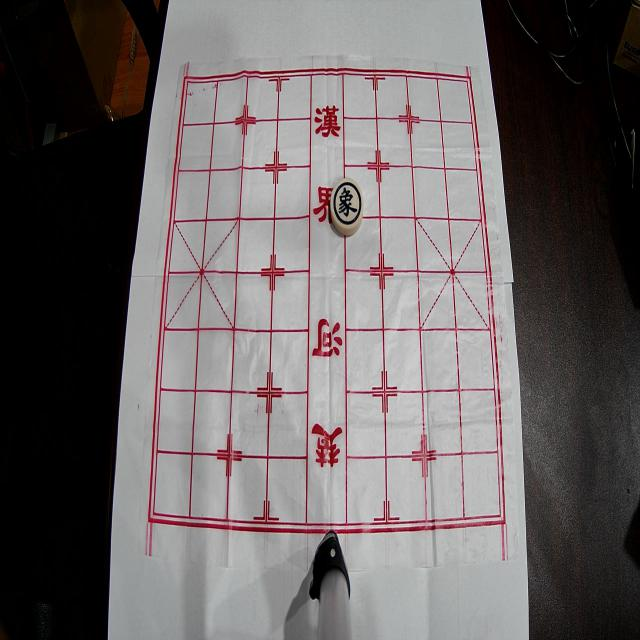black-elephant: (331, 178, 364, 236)
